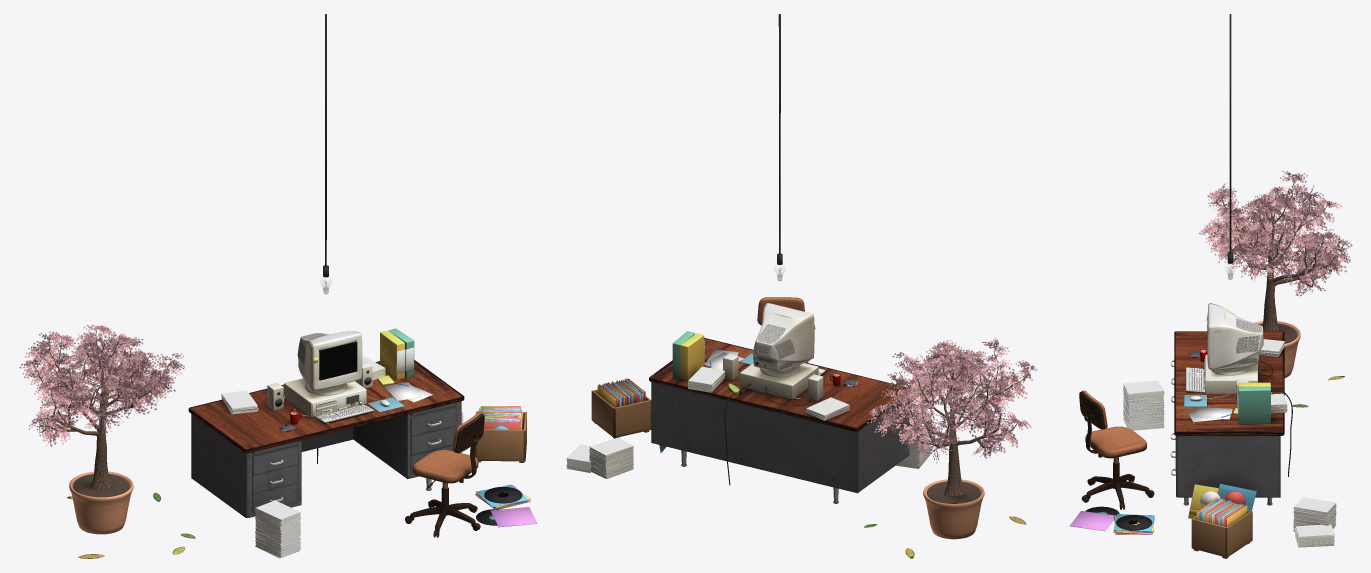
The model's file is bureau.glb.
3 renders of one model, left to right at view 1: azimuth 30°, elevation 25°; view 2: azimuth 150°, elevation 25°; view 3: azimuth 270°, elevation 25°, orthographic. The views are drawn at different scales.
Visible parts, largest first — view 1: Desk, Tree, Vinyls, Chair, DeskStuff, Pot, Monitor, PaperPiles, Computer, Screen, Speakers, Bulb; view 2: Desk, Tree, Monitor, DeskStuff, Vinyls, Pot, PaperPiles, Computer, Speakers, Bulb; view 3: Tree, Desk, Vinyls, PaperPiles, Chair, Monitor, DeskStuff, Computer, Bulb, Pot, Keyboard.
Part boxes in pixels (x1,y1,x2,y2): Desk: (188,360,464,517); Tree: (19,324,184,489); Vinyls: (474,406,537,527); Chair: (405,412,484,537); DeskStuff: (221,328,432,431); Pot: (69,471,133,534); Monitor: (297,331,362,395); PaperPiles: (255,412,463,558); Computer: (284,378,366,417); Screen: (319,341,357,380); Speakers: (267,361,372,410); Bulb: (322,14,328,294); Desk: (649,338,909,503); Tree: (867,338,1037,496); Monitor: (753,303,815,377); DeskStuff: (672,331,858,420); Vinyls: (591,378,666,452); Pot: (923,479,984,539); PaperPiles: (566,414,930,478); Computer: (740,363,818,399); Speakers: (723,353,823,401); Bulb: (777,14,782,280); Tree: (1199,171,1352,331); Desk: (1170,331,1284,505); Vinyls: (1069,483,1256,558); PaperPiles: (1123,380,1336,547); Chair: (1079,390,1154,509); Monitor: (1206,303,1263,375); DeskStuff: (1187,339,1287,424); Computer: (1203,354,1257,394); Bulb: (1227,14,1233,279); Pot: (1254,321,1300,377); Keyboard: (1186,367,1204,392).
Size of what is drawn, in the model's own units: 4.33 by 4.19 by 2.38.
Materials: 10 (7 with a texture image).
